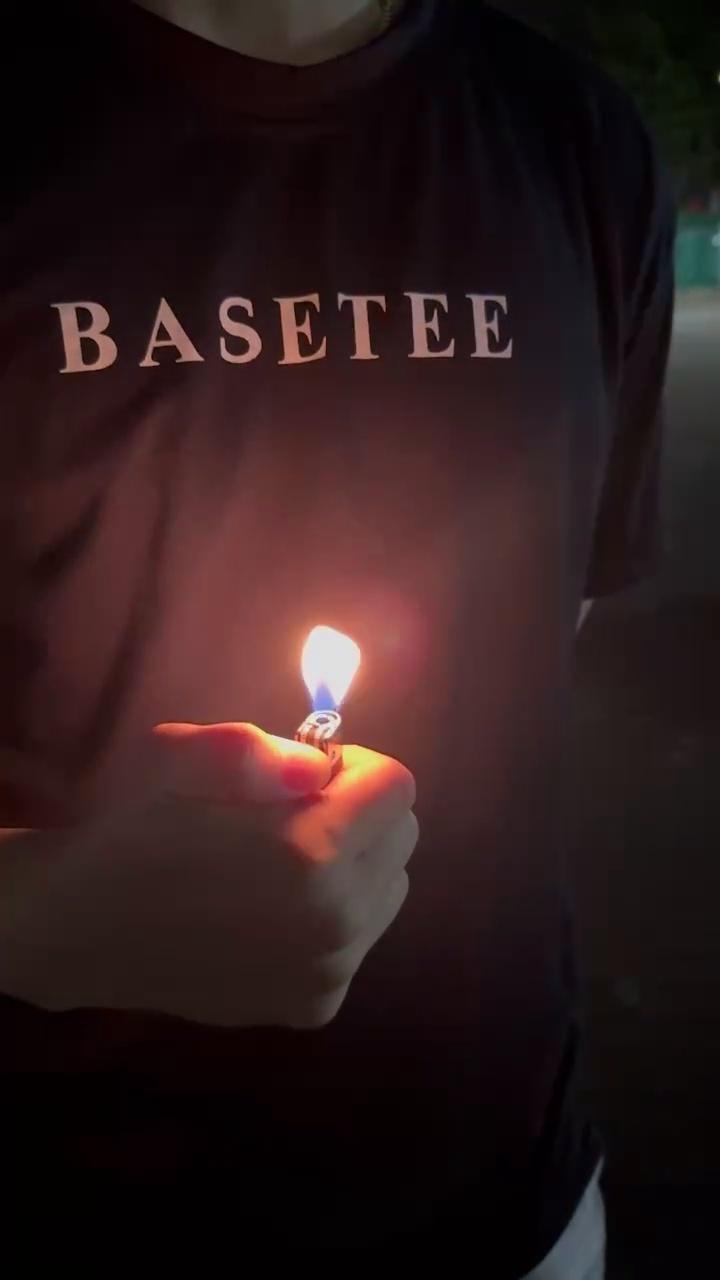Fire: (282, 578, 442, 745)
